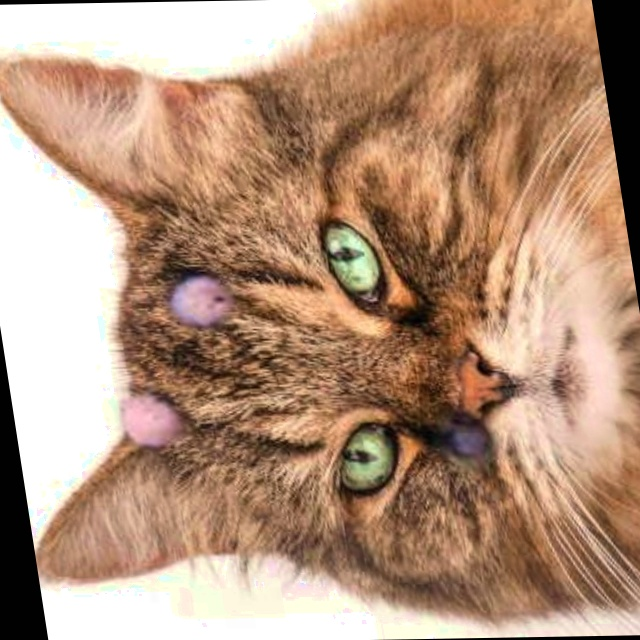lump_and_bump: (114, 393, 194, 446), (166, 280, 241, 322), (446, 416, 492, 455)
